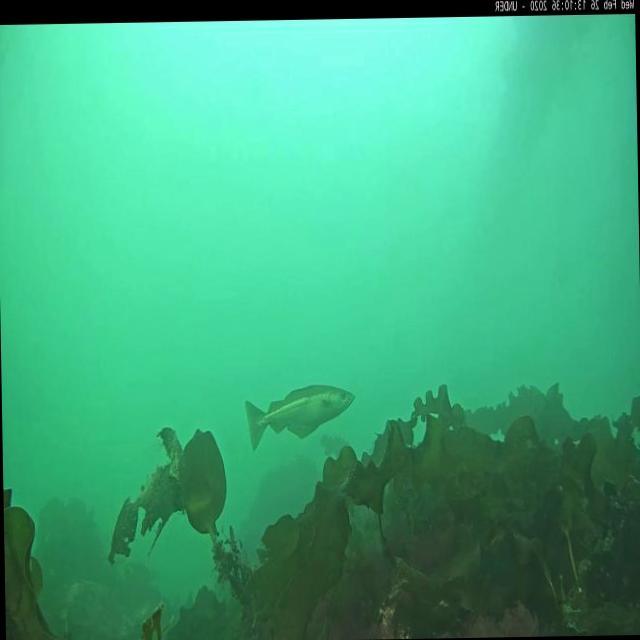fish: (246, 384, 356, 454)
